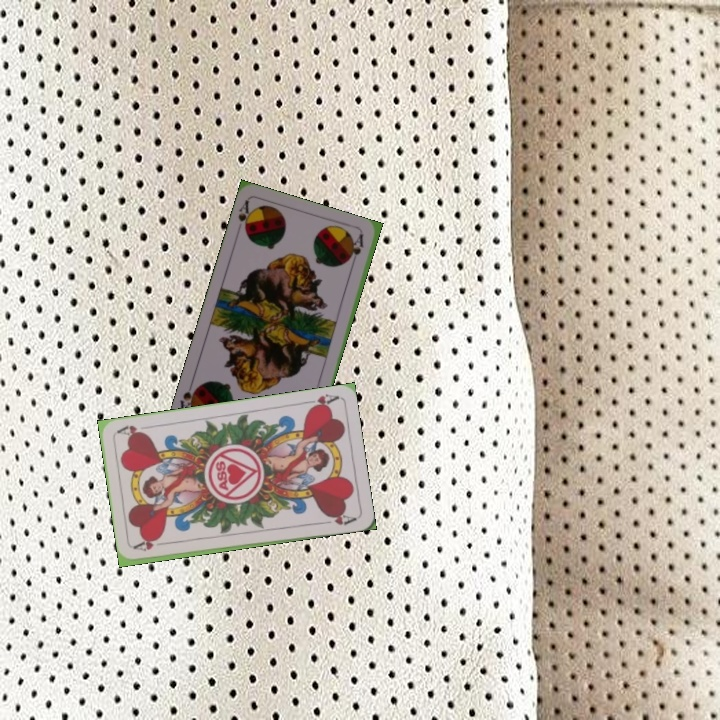HA: (300, 389, 340, 412), (131, 537, 171, 554)
SA: (234, 196, 256, 237)
